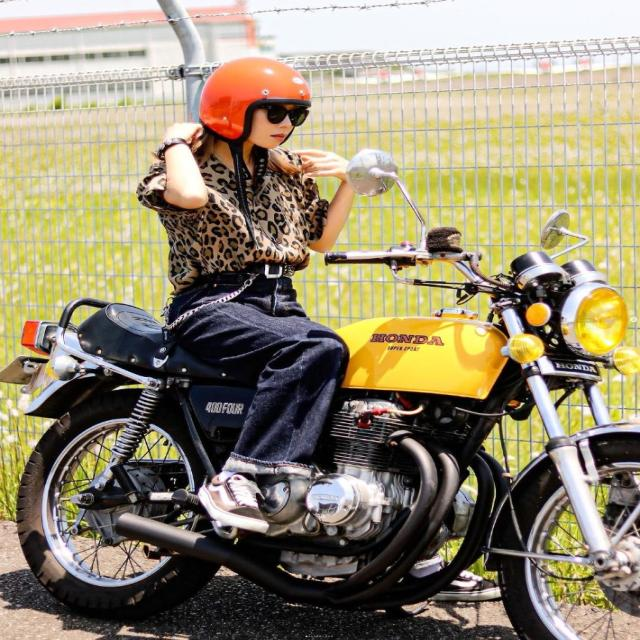illegal_helmet: (194, 52, 314, 255)
